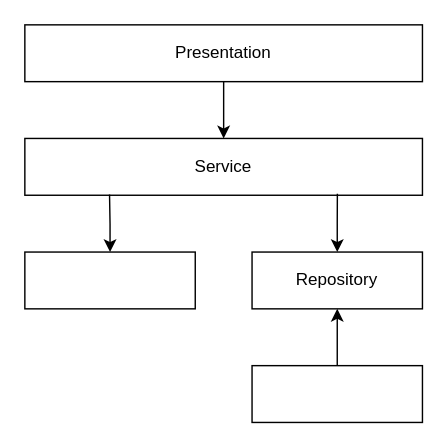
Image size: 447x447. Some labels were removed from this diagram. The centre of each missing label's shape, as x and y in pixels:
Domain: the point at 109,280
Persistence: the point at 336,393
